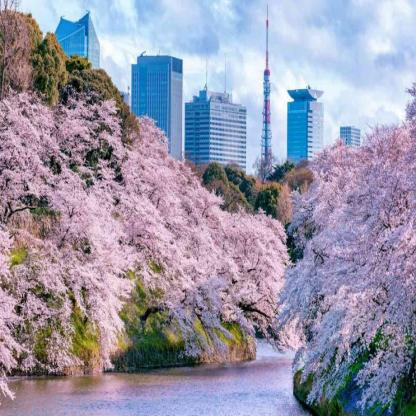Someiyoshino: (0, 89, 282, 393), (287, 124, 413, 405)
